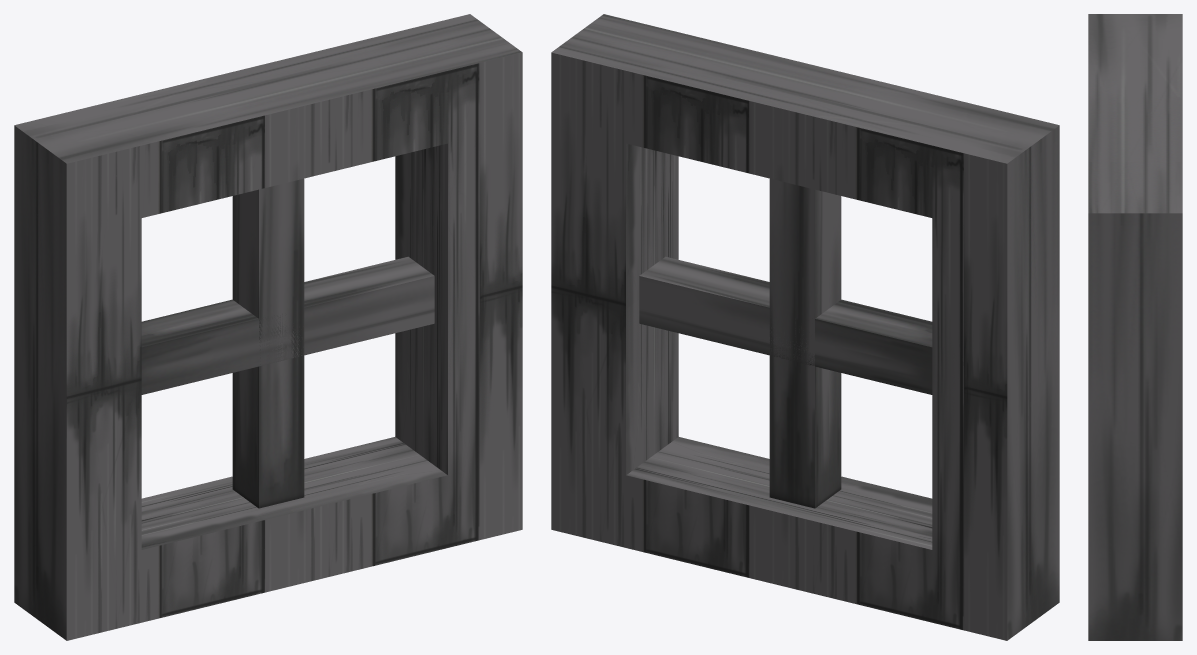
File: Wall_W_SingleWindwo.fbx
3 renders of one model, left to right at view 1: azimuth 30°, elevation 25°; view 2: azimuth 150°, elevation 25°; view 3: azimuth 270°, elevation 25°, orthographic. The views are drawn at different scales.
Parts seen in each view (by area): view 1: Wall_W_window; view 2: Wall_W_window; view 3: Wall_W_window.
Part boxes in pixels (bbox=[...]): Wall_W_window: bbox=[14, 14, 522, 640]; Wall_W_window: bbox=[551, 14, 1059, 640]; Wall_W_window: bbox=[1088, 14, 1182, 640].
Bounding box in the file's own units: 5 × 5 × 1.
